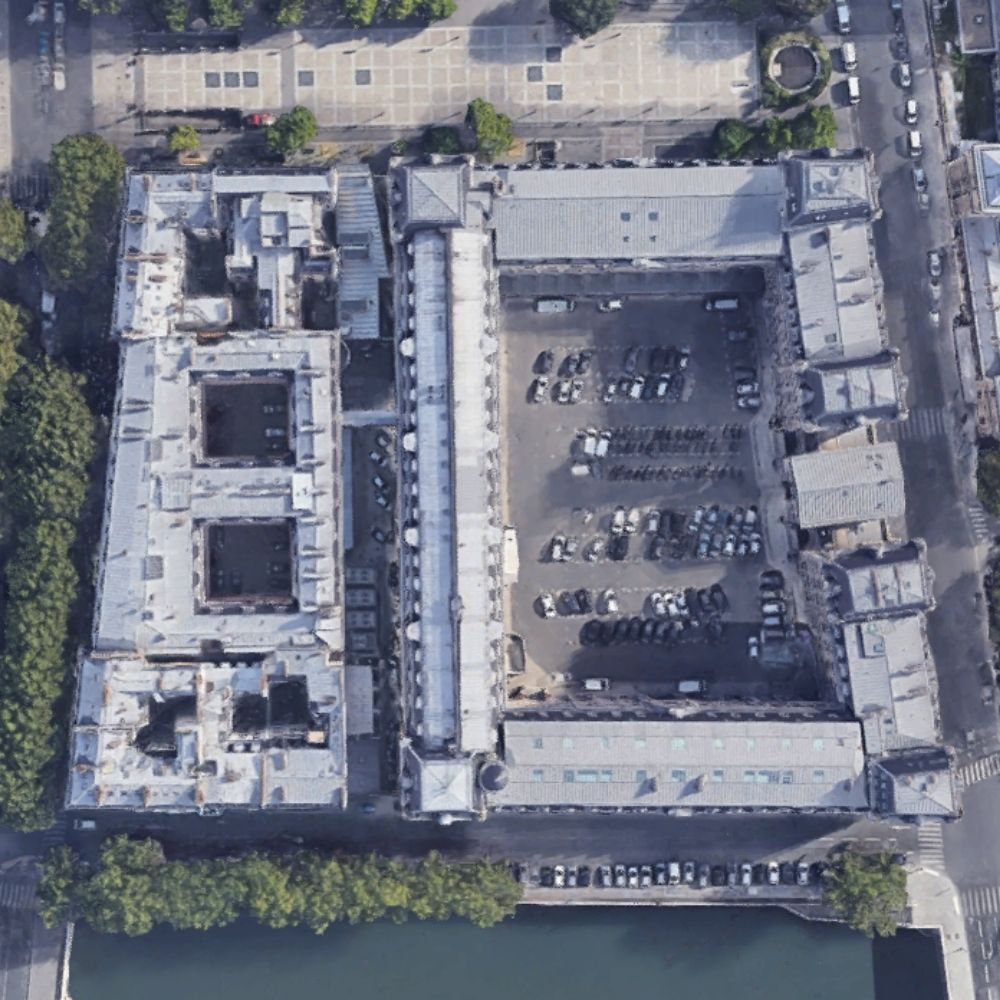parking: (500, 300, 840, 700), (205, 525, 290, 600), (200, 385, 285, 455)
